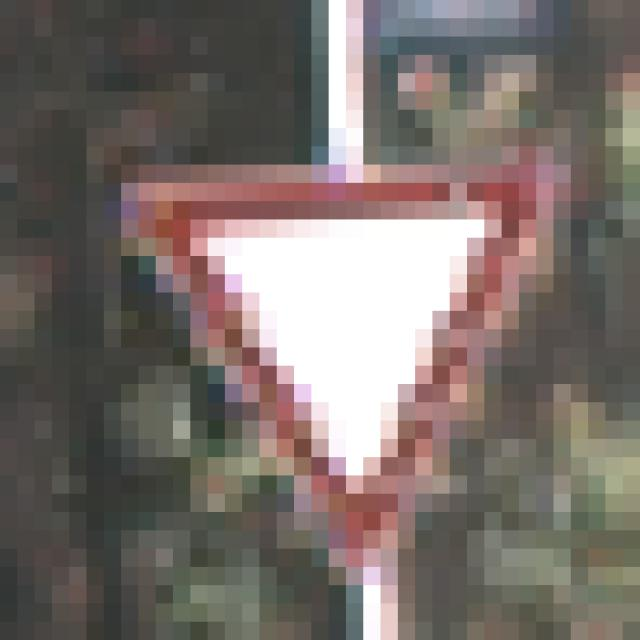Give Way: (105, 111, 554, 531)
